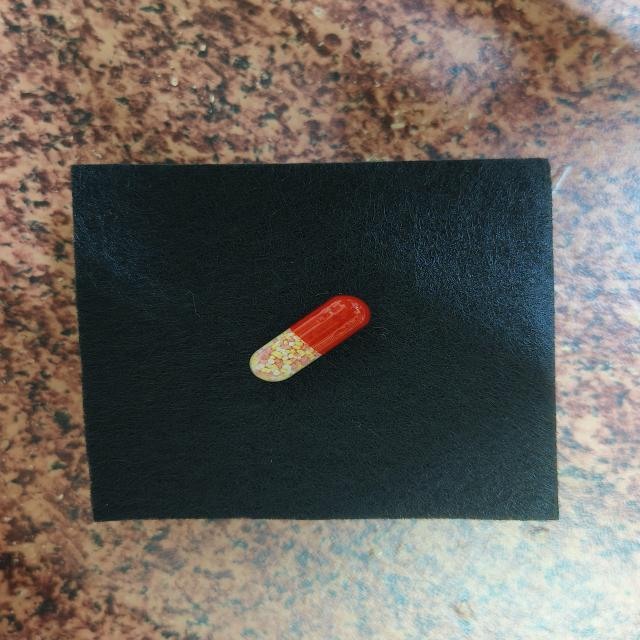Intact Capsule: (250, 295, 371, 382)
